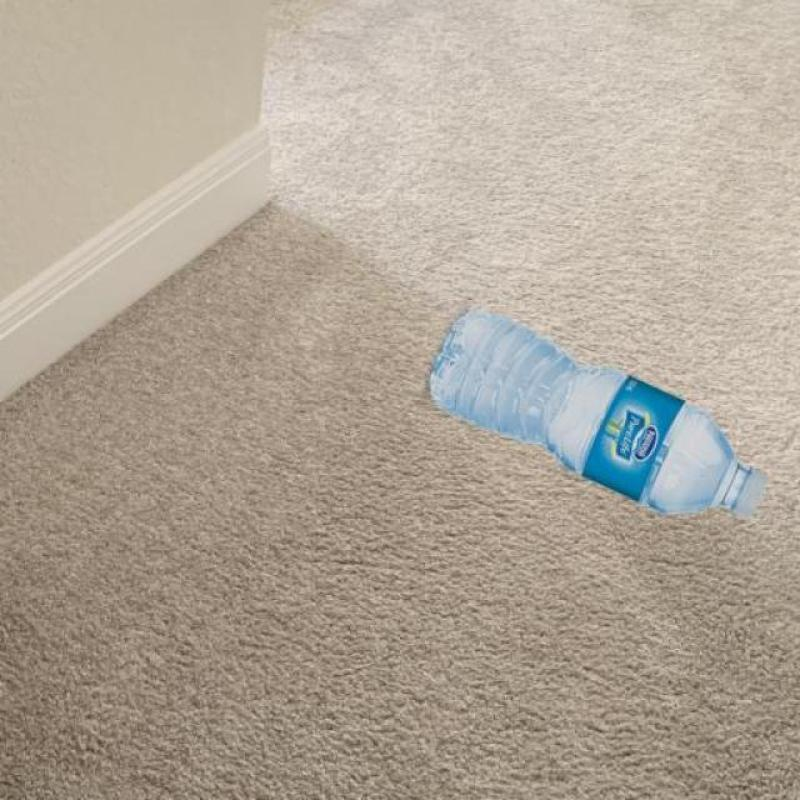botella: (428, 308, 774, 520)
